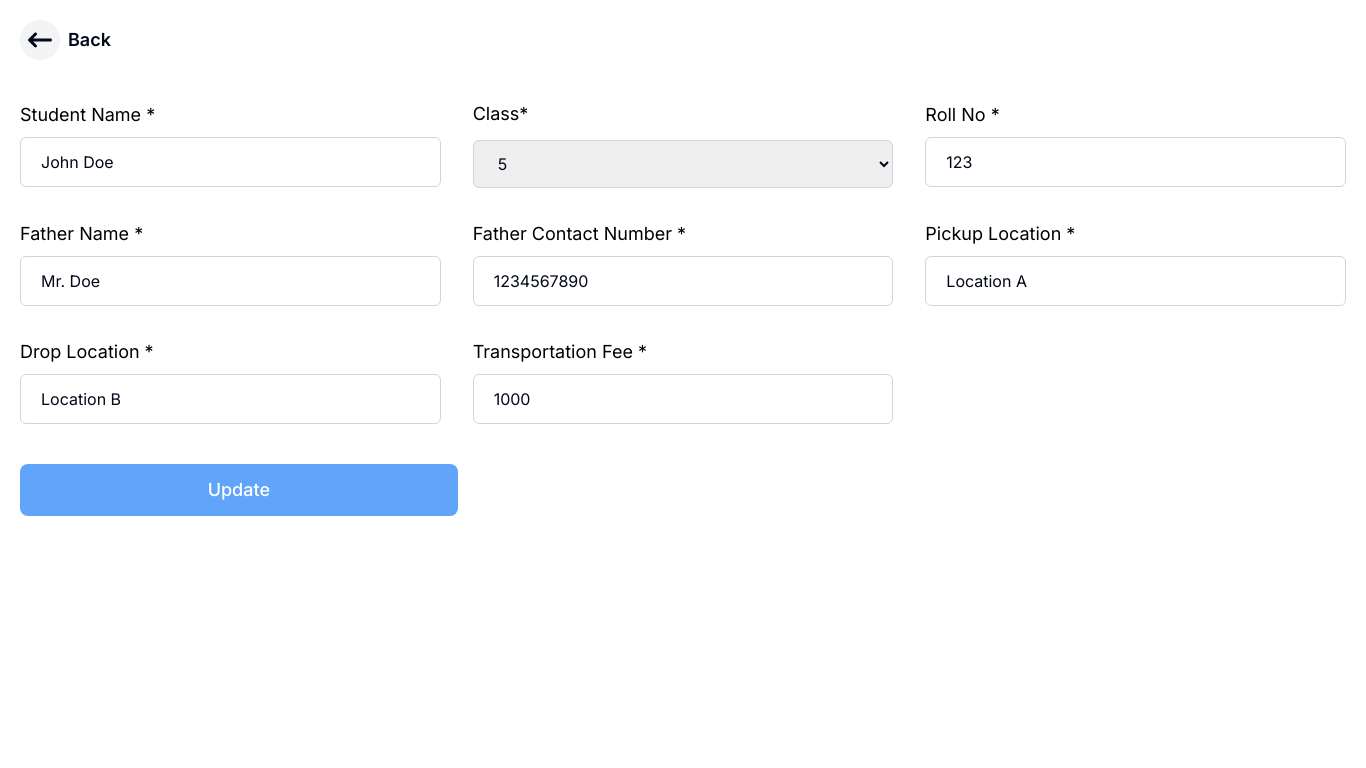
it: EditTranspotation Component › submits the form and shows success modal
What coordinates should you click on to do the following:
click the button "Update"
I would click on:
 (239, 490)
Its box is [20,464,458,516].
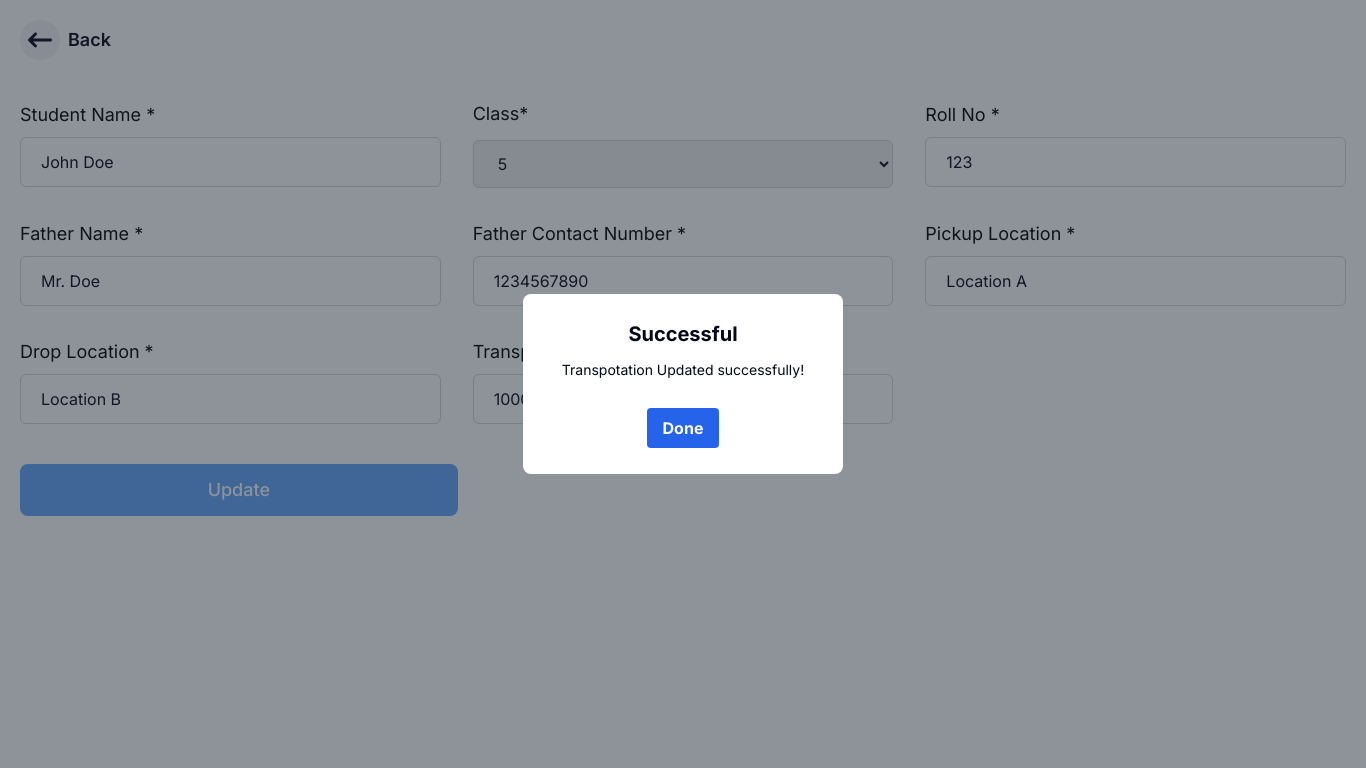
Expected: the heading "Transpotation Updated successfully!" is shown, [562,360,804,380]
